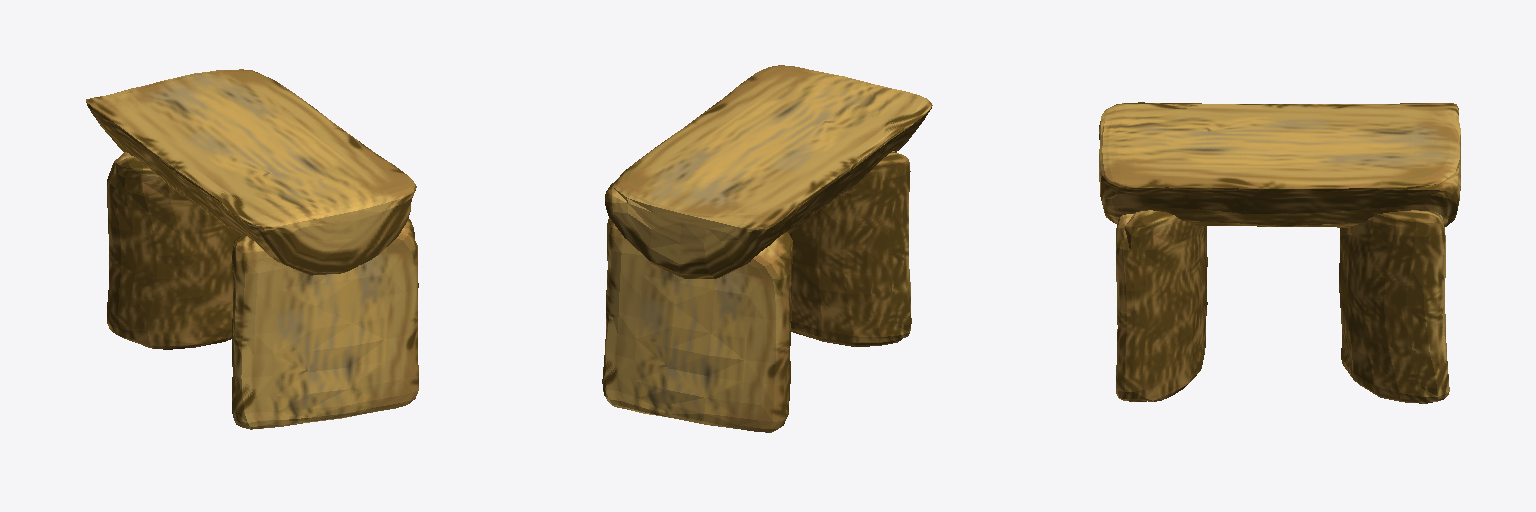
3 views of the same model, side by side, from view 1: azimuth 30°, elevation 25°; view 2: azimuth 150°, elevation 25°; view 3: azimuth 270°, elevation 25° (orthographic).
Parts seen in each view (by area): view 1: podium; view 2: podium; view 3: podium.
Part boxes in pixels (x1,y1,x2,y2): podium: (86,69,418,429); podium: (602,65,932,432); podium: (1099,102,1460,403).
Bounding box in the file's own units: 11.04 × 13.89 × 19.9.
1 materials, 1 textured.